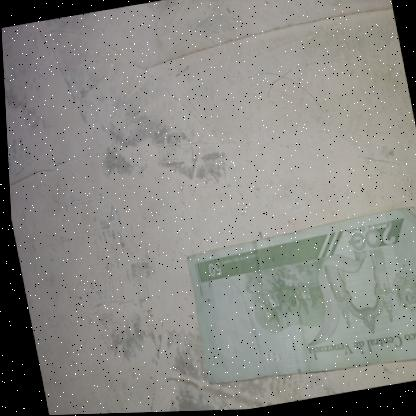fifty-back-vef: (176, 204, 416, 399)
